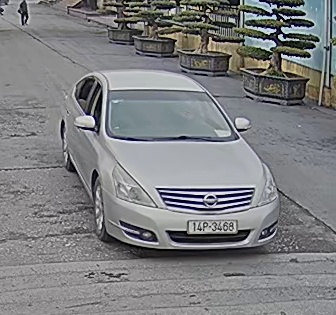vehicle plate: (187, 216, 241, 234)
